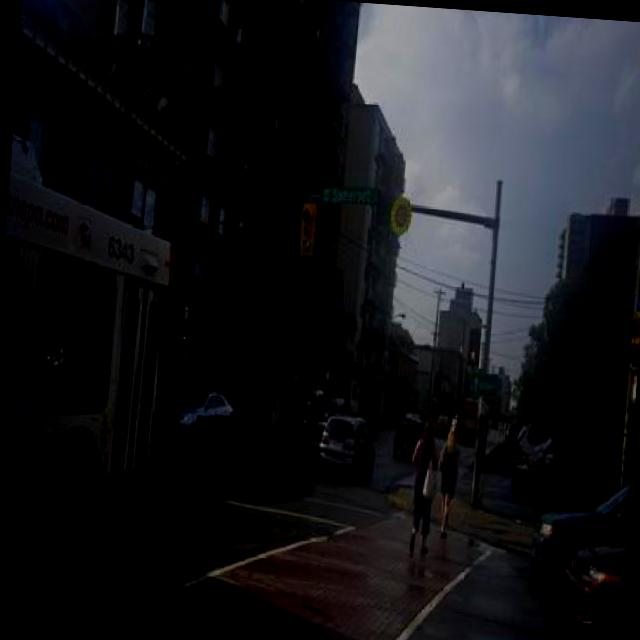Person: (404, 415, 442, 554), (432, 422, 461, 536)
